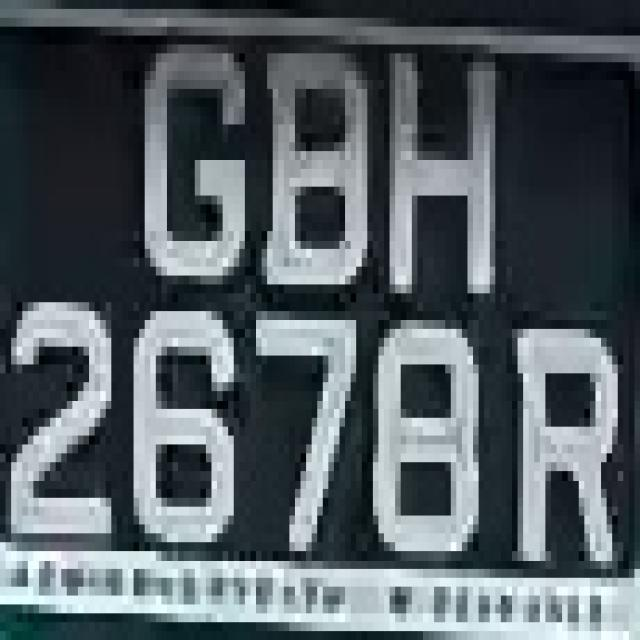2: (11, 276, 128, 560)
6: (112, 284, 250, 578)
7: (234, 266, 362, 586)
8: (362, 284, 484, 569)
B: (267, 36, 373, 302)
G: (134, 9, 256, 320)
H: (368, 35, 507, 294)
R: (496, 284, 634, 614)
